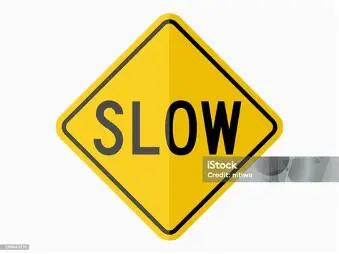Slow: (58, 17, 276, 237)
